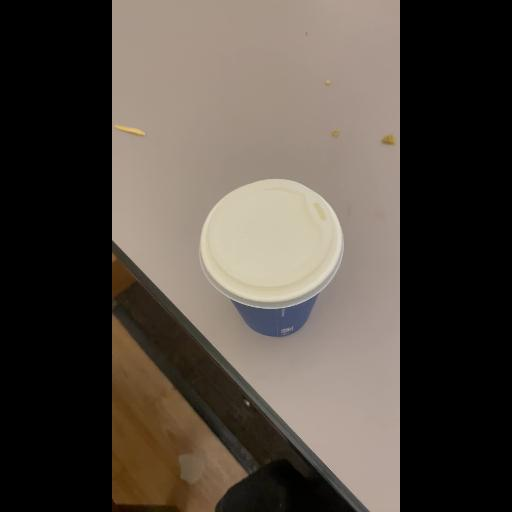lp_paper_cup: (189, 173, 355, 349)
